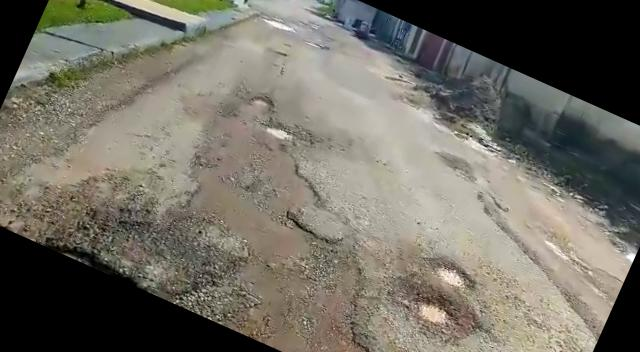pothole: (390, 278, 470, 346), (421, 250, 485, 296), (258, 115, 298, 145), (248, 90, 278, 112)
